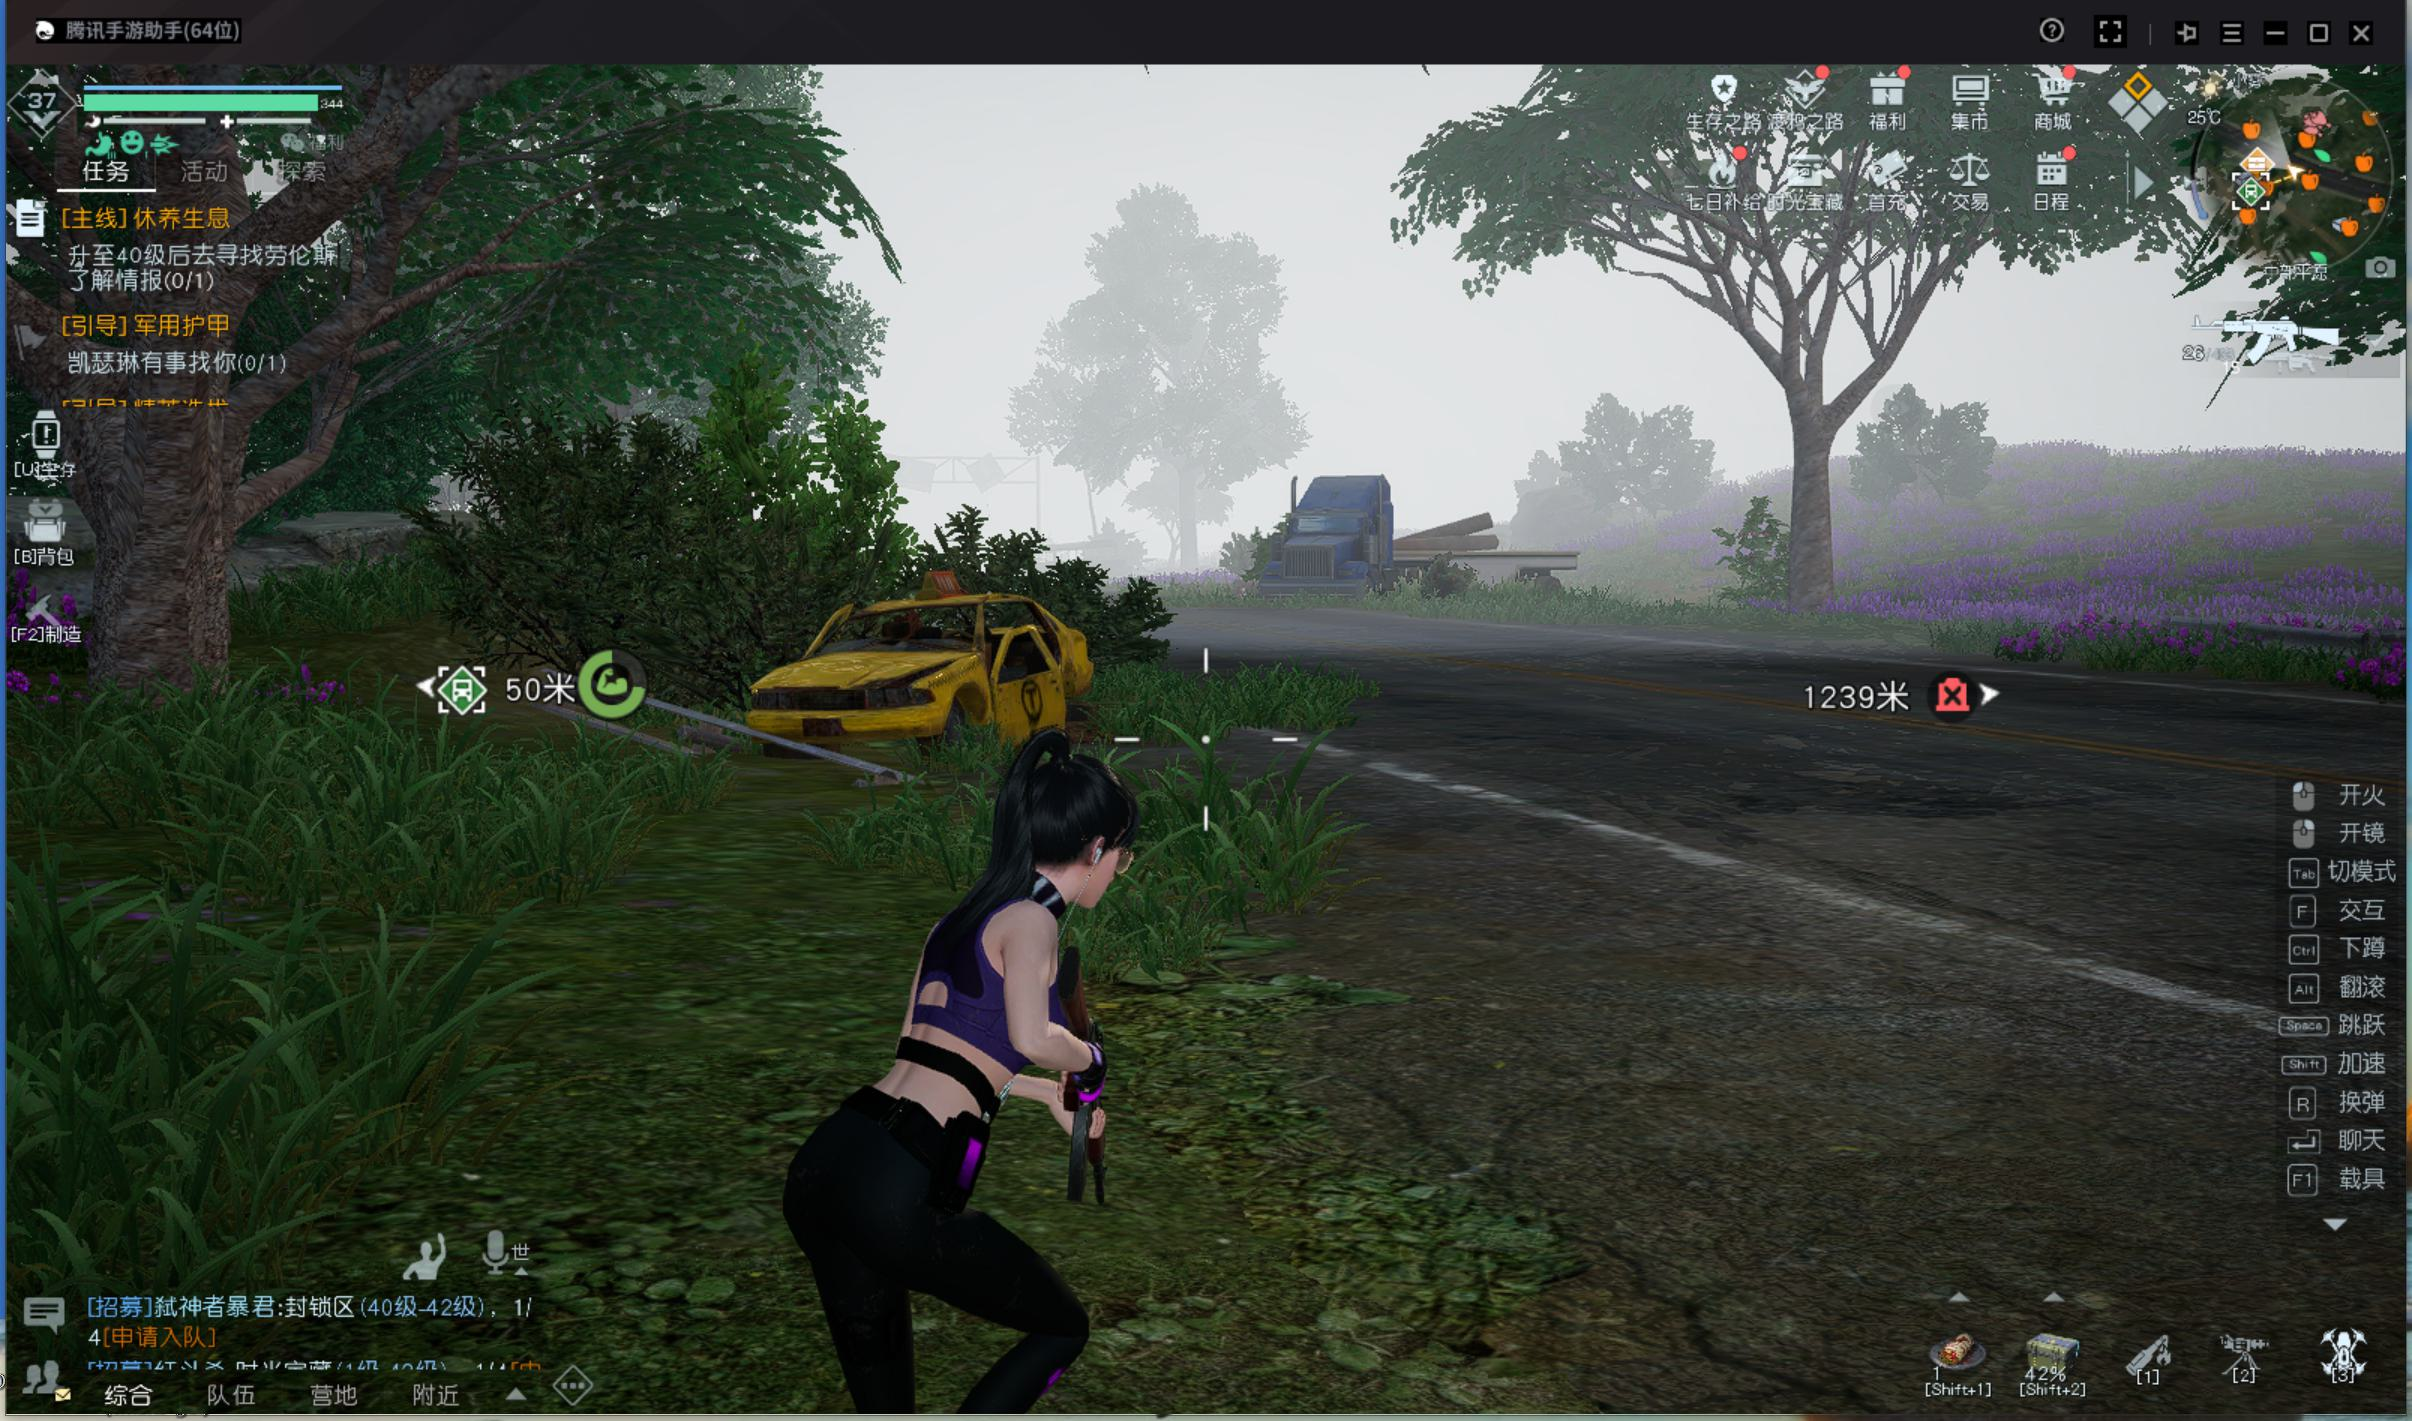tree: (83, 501, 244, 714), (1774, 425, 1862, 623)
